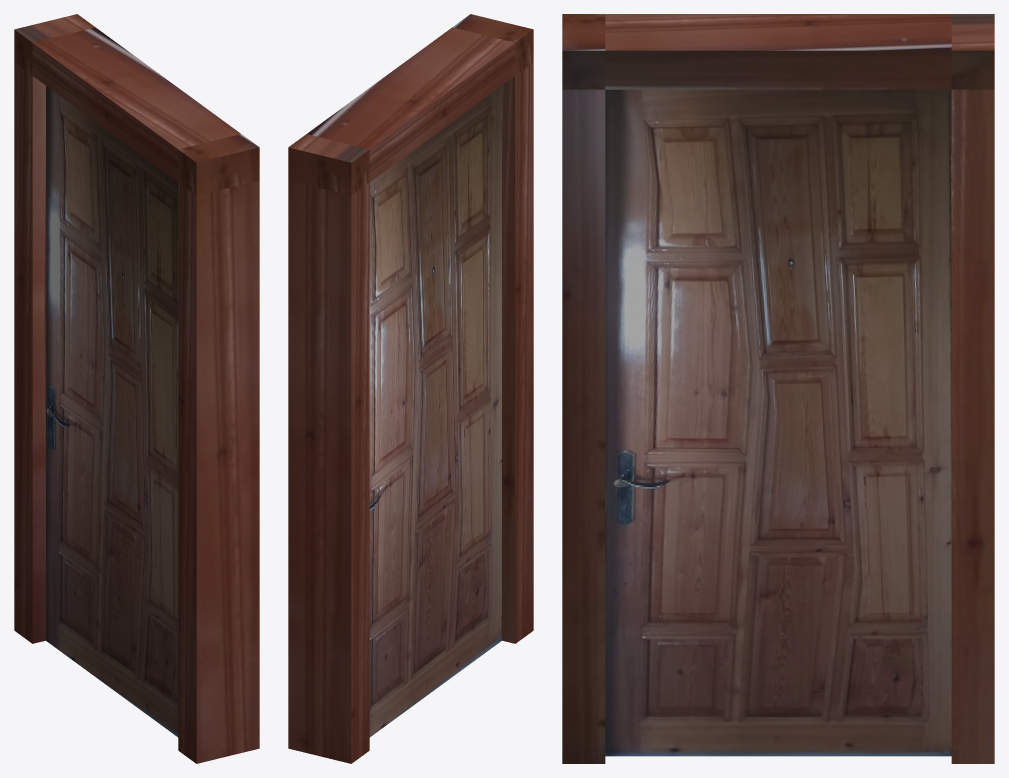
Rendered from Kapi.fbx.
3 renders of one model, left to right at view 1: azimuth 30°, elevation 25°; view 2: azimuth 150°, elevation 25°; view 3: azimuth 270°, elevation 25°, orthographic. The views are drawn at different scales.
Parts seen in each view (by area): view 1: Cube, Cube.001; view 2: Cube, Cube.001; view 3: Cube.001, Cube.
Boxes of the visible parts, x1,y1,x2,y2 form: Cube: [14, 14, 259, 763]; Cube.001: [46, 86, 178, 737]; Cube: [288, 14, 533, 763]; Cube.001: [369, 86, 501, 737]; Cube.001: [605, 89, 951, 756]; Cube: [562, 14, 994, 763].
Size of the model in its own units: 50 by 455 by 250.
